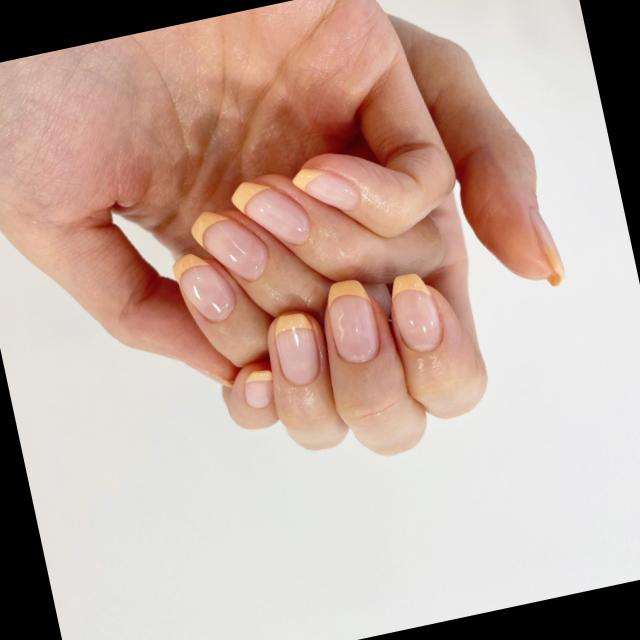Nail: (190, 210, 267, 280), (230, 181, 309, 243), (326, 279, 378, 362), (172, 253, 235, 321), (390, 271, 441, 351), (273, 311, 319, 385), (291, 167, 358, 210), (528, 207, 563, 285), (243, 369, 272, 407)
